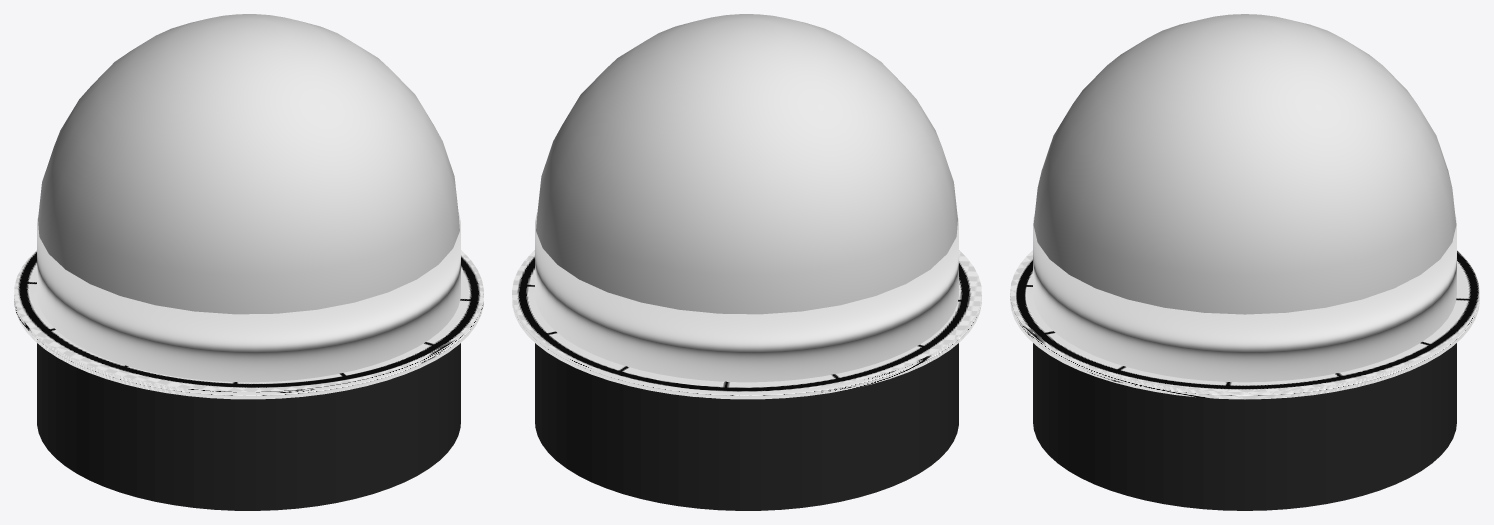
Rendered from roundPlatform 1.fbx.
3 views of the same model, side by side, from view 1: azimuth 30°, elevation 25°; view 2: azimuth 150°, elevation 25°; view 3: azimuth 270°, elevation 25° (orthographic).
Visible parts, largest first — view 1: Sphere, base, top, drehscheibe; view 2: Sphere, base, top, drehscheibe; view 3: Sphere, base, top, drehscheibe.
Boxes of the visible parts, <box> form: Sphere: <box>38,14,459,314</box>; base: <box>37,343,460,510</box>; top: <box>37,213,460,382</box>; drehscheibe: <box>14,250,483,399</box>; Sphere: <box>536,14,957,314</box>; base: <box>535,343,958,510</box>; top: <box>535,213,958,382</box>; drehscheibe: <box>512,250,981,399</box>; Sphere: <box>1033,14,1456,314</box>; base: <box>1033,343,1456,510</box>; top: <box>1033,215,1456,382</box>; drehscheibe: <box>1010,250,1479,399</box>.
Size of the model in its own units: 271 by 247 by 271.
